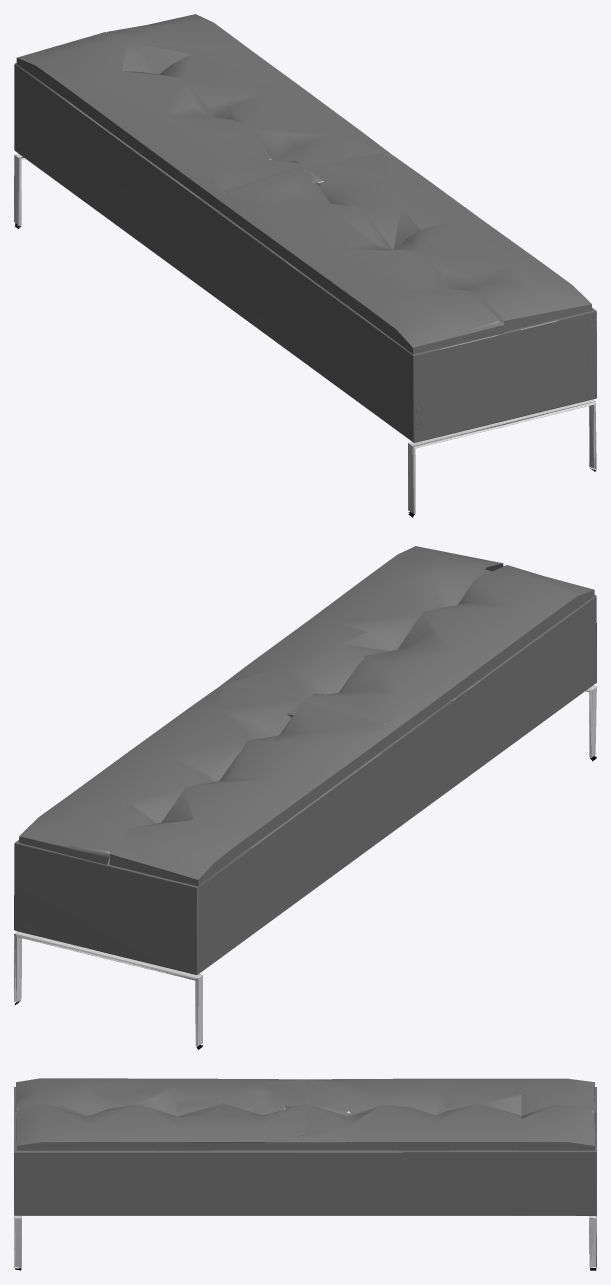
File: BAILEYS-sofa-01.obj
3 views of the same model, one above another, from view 1: azimuth 30°, elevation 25°; view 2: azimuth 150°, elevation 25°; view 3: azimuth 270°, elevation 25° (orthographic). The views are drawn at different scales.
Size of the model in its own units: 0.44 by 0.42 by 1.65.
1 material, 1 textured.
